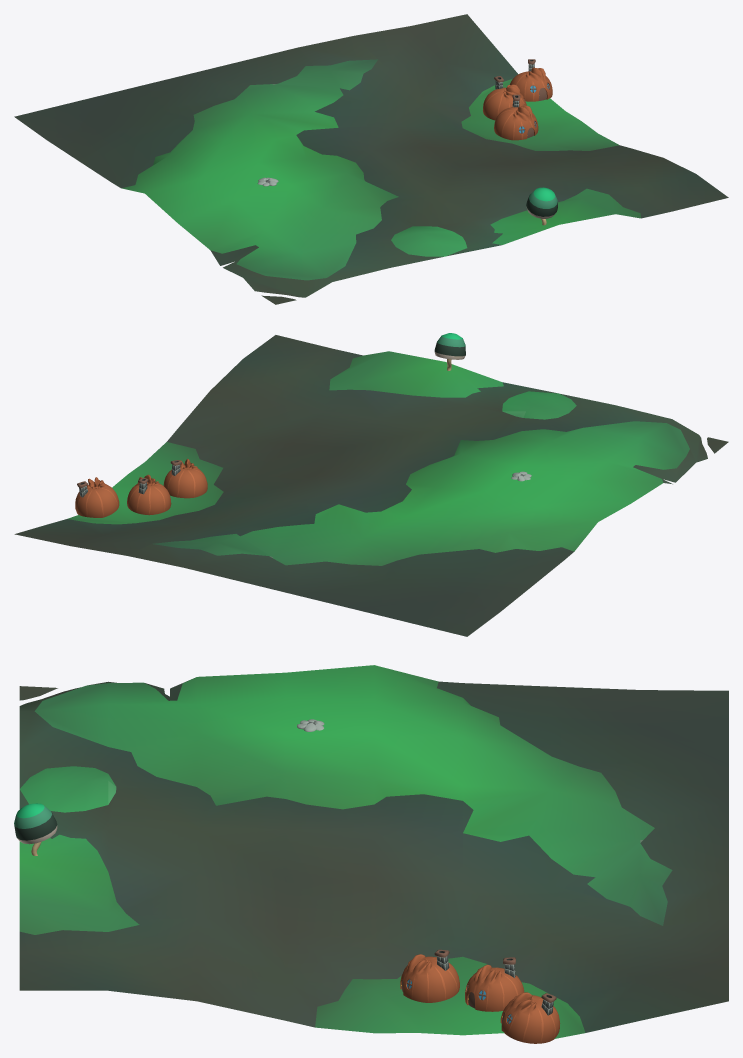
File: LevelA2.fbx
3 renders of one model, top to bottom at view 1: azimuth 30°, elevation 25°; view 2: azimuth 150°, elevation 25°; view 3: azimuth 270°, elevation 25°, orthographic. The views are drawn at different scales.
Visible parts, largest first — view 1: GroundA2, OniHouse.005, OniHouse.009, OniHouse.007, MushroomB.017; view 2: GroundA2, OniHouse.009, OniHouse.007, OniHouse.005, MushroomB.017; view 3: GroundA2, OniHouse.009, OniHouse.005, OniHouse.007, MushroomB.017.
Part boxes in pixels (x1,y1,x2,y2): GroundA2: (14, 14, 728, 304); OniHouse.005: (494, 94, 538, 140); OniHouse.009: (510, 59, 552, 101); OniHouse.007: (483, 76, 526, 120); MushroomB.017: (526, 187, 557, 225); GroundA2: (14, 335, 728, 636); OniHouse.009: (75, 477, 119, 517); OniHouse.007: (127, 474, 171, 515); OniHouse.005: (163, 458, 207, 498); MushroomB.017: (434, 333, 465, 370); GroundA2: (19, 665, 728, 1038); OniHouse.009: (500, 992, 560, 1043); OniHouse.005: (400, 949, 459, 1002); OniHouse.007: (465, 957, 524, 1011); MushroomB.017: (14, 803, 57, 855).
Size of the model in its own units: 9240 by 1623 by 9129.
